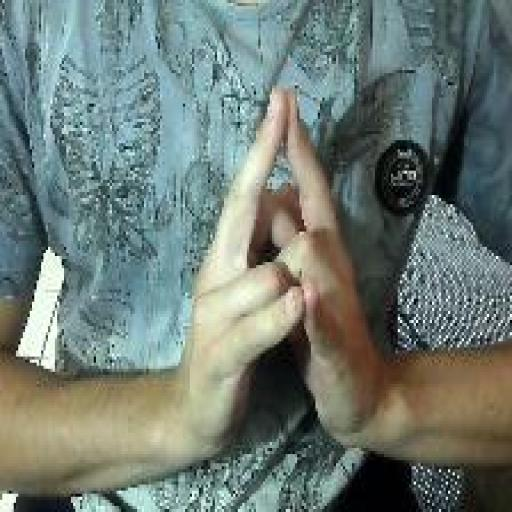Tori -bird-: (176, 80, 377, 462)
